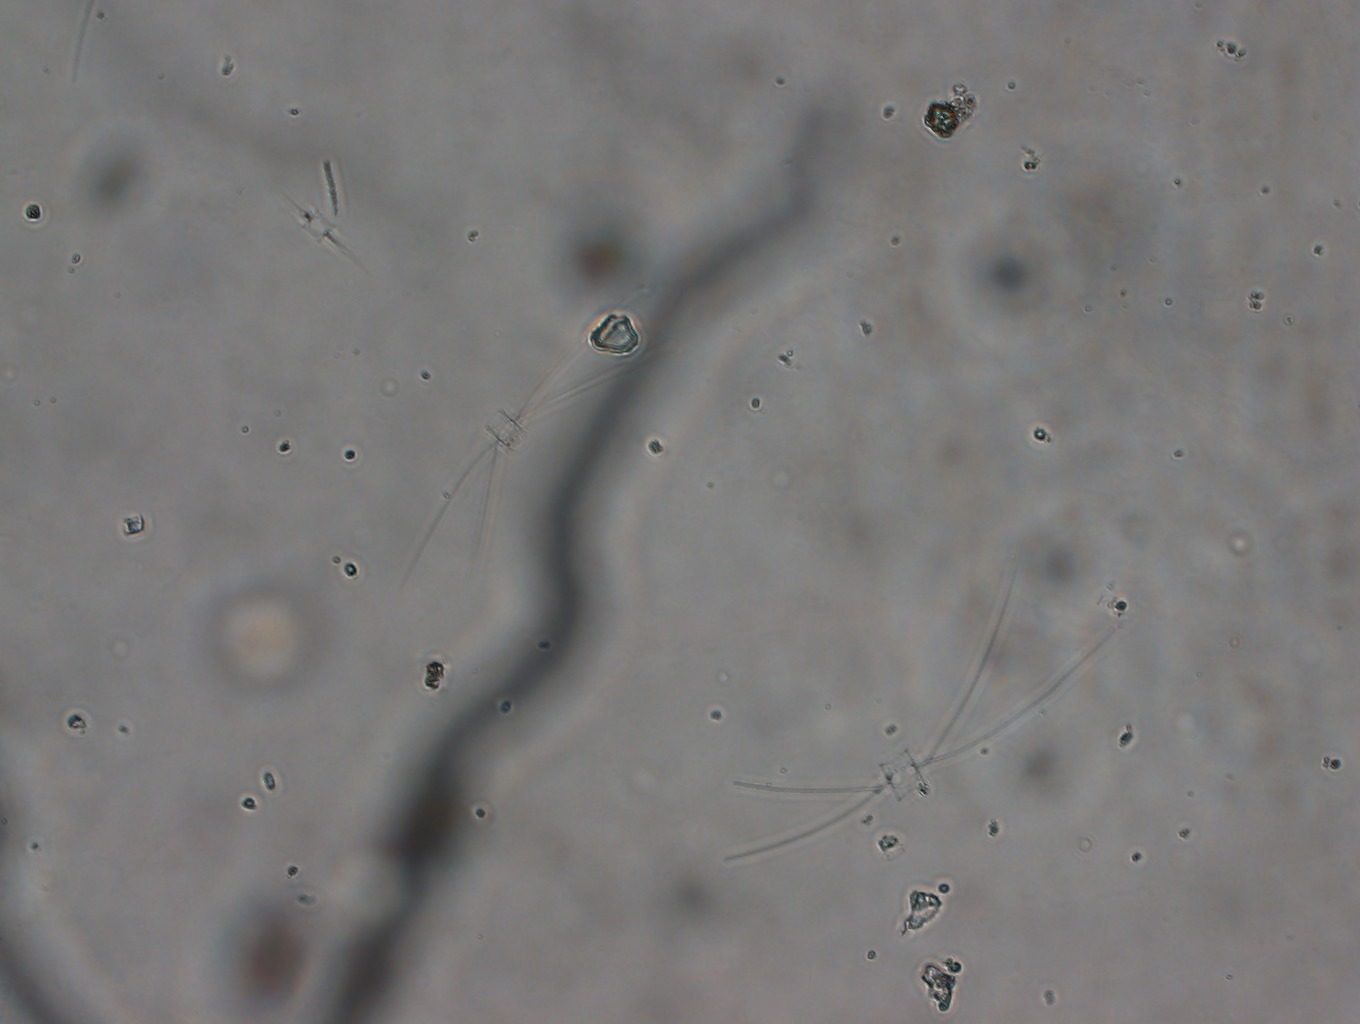chaetoceros: (711, 549, 1130, 873), (405, 276, 669, 589)
